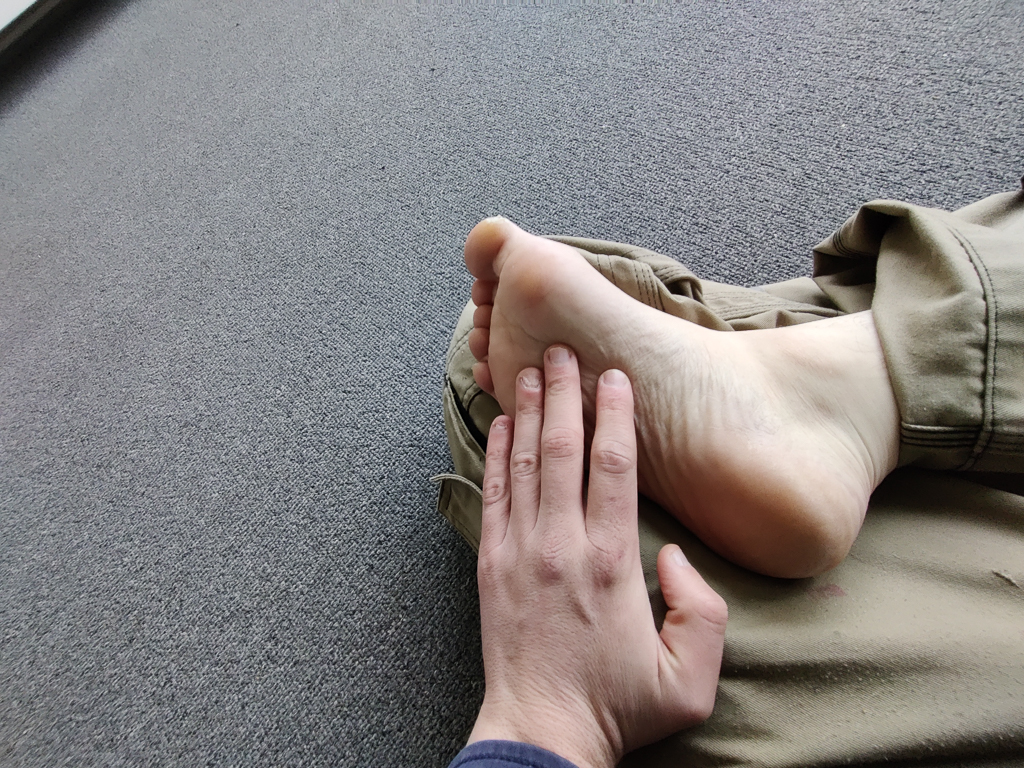Humanoid: (411, 169, 1024, 768)
